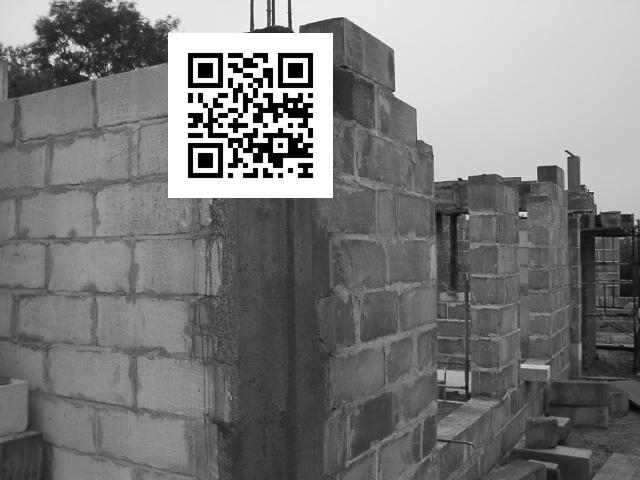qr_code: (168, 33, 332, 197)
